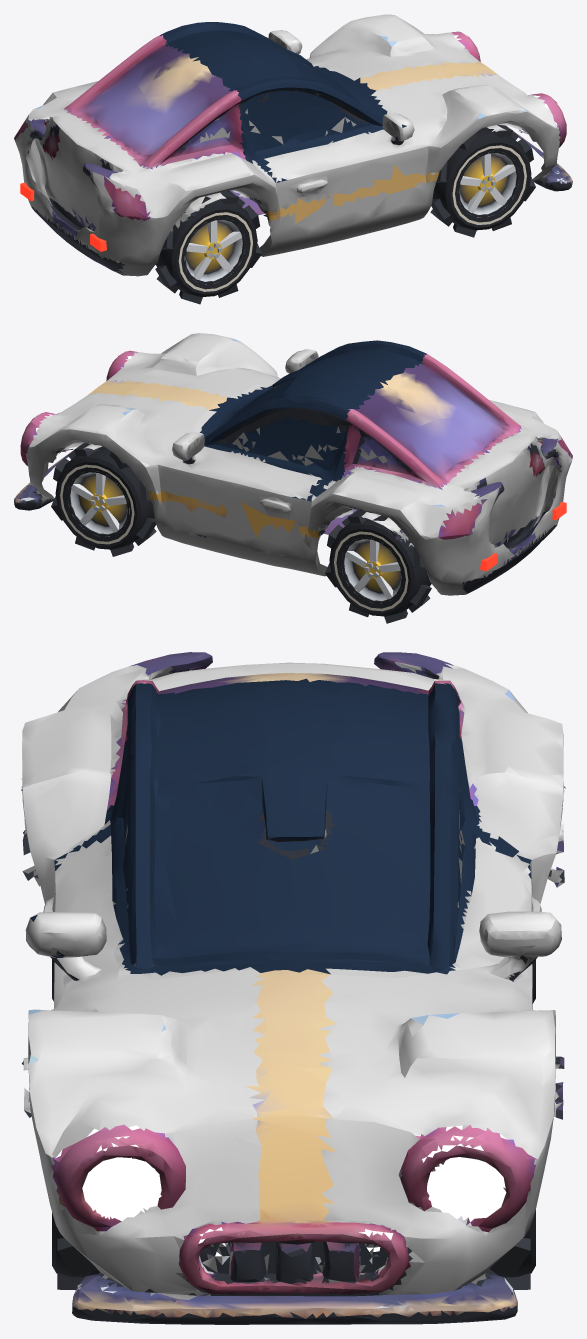
File: car-kobalt.glb
3 views of the same model, one above another, from view 1: azimuth 30°, elevation 25°; view 2: azimuth 150°, elevation 25°; view 3: azimuth 270°, elevation 25° (orthographic). The views are drawn at different scales.
Visible parts, largest first — view 1: body, wheel_fr, wheel_rr; view 2: body, wheel_fl, wheel_rl; view 3: body, wheel_fl, wheel_fr.
Boxes of the visible parts, x1,y1,x2,y2 form: body: (14,14,572,276); wheel_fr: (430,124,535,237); wheel_rr: (155,190,261,304); body: (14,333,572,595); wheel_fl: (51,442,156,556); wheel_rl: (325,510,431,623); body: (21,652,565,1324); wheel_fl: (486,1209,535,1289); wheel_fr: (52,1212,100,1289).
Bounding box in the file's own units: 4.82 × 1.89 × 2.48.
